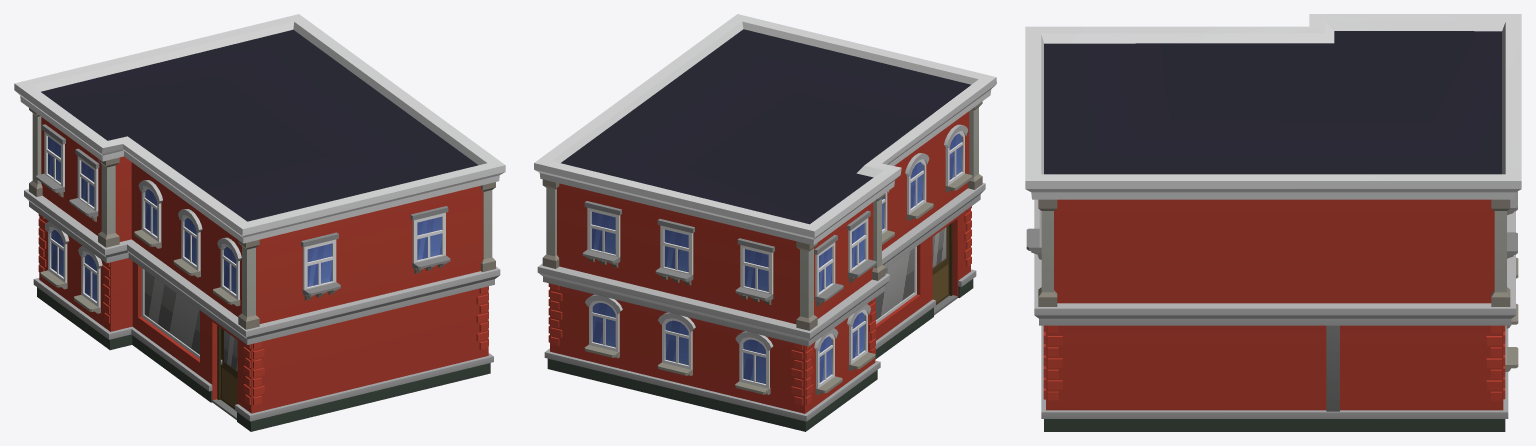
The model's file is Building_1_2_M.glb.
3 renders of one model, left to right at view 1: azimuth 30°, elevation 25°; view 2: azimuth 150°, elevation 25°; view 3: azimuth 270°, elevation 25°, orthographic. The views are drawn at different scales.
Parts seen in each view (by area): view 1: Building_1_2_M; view 2: Building_1_2_M; view 3: Building_1_2_M.
Part boxes in pixels (x1,y1,x2,y2): Building_1_2_M: (14,14,505,431); Building_1_2_M: (534,14,996,431); Building_1_2_M: (1025,14,1521,431).
Size of the model in its own units: 8.41 by 6 by 10.57.
3 materials, 3 textured.
